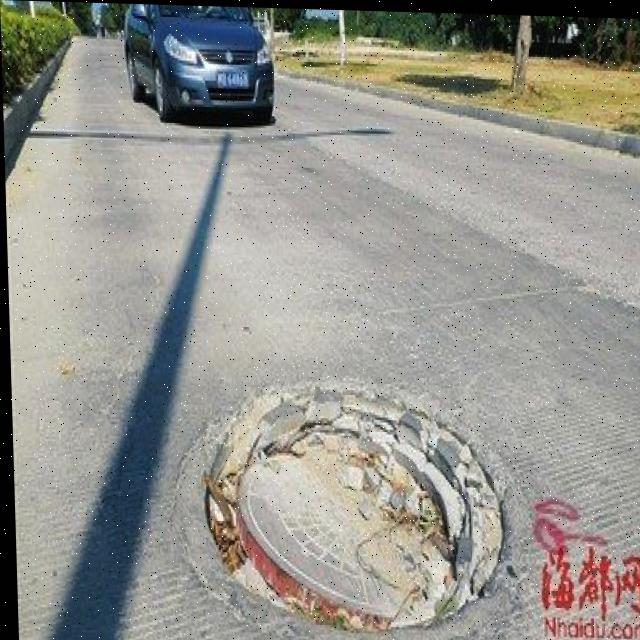manhole: (177, 370, 513, 630)
